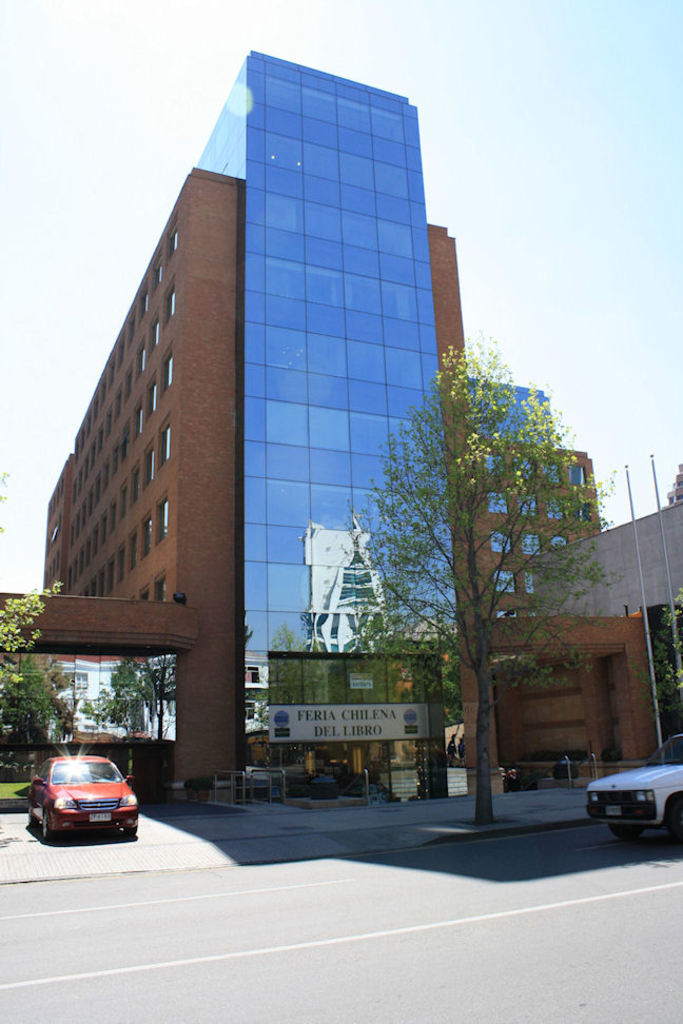Car: (578, 727, 681, 838), (26, 751, 140, 840)
